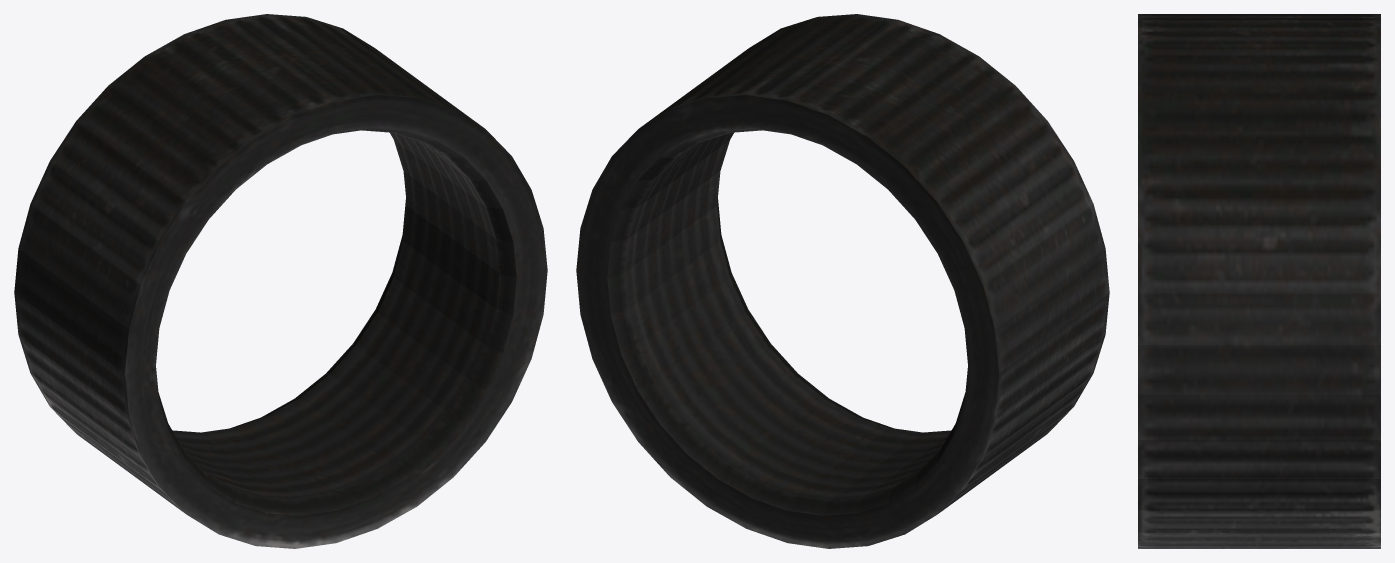
3 views of the same model, side by side, from view 1: azimuth 30°, elevation 25°; view 2: azimuth 150°, elevation 25°; view 3: azimuth 270°, elevation 25° (orthographic). The views are drawn at different scales.
Visible parts, largest first — view 1: TW_612e0e04568c120fdd294258_PZ_Import; view 2: TW_612e0e04568c120fdd294258_PZ_Import; view 3: TW_612e0e04568c120fdd294258_PZ_Import.
Part boxes in pixels (x1,y1,x2,y2): TW_612e0e04568c120fdd294258_PZ_Import: (14, 14, 547, 548); TW_612e0e04568c120fdd294258_PZ_Import: (576, 14, 1109, 548); TW_612e0e04568c120fdd294258_PZ_Import: (1138, 14, 1380, 548).
Size of the model in its own units: 0.018 by 0.00815 by 0.018.
Materials: 1 (1 with a texture image).
